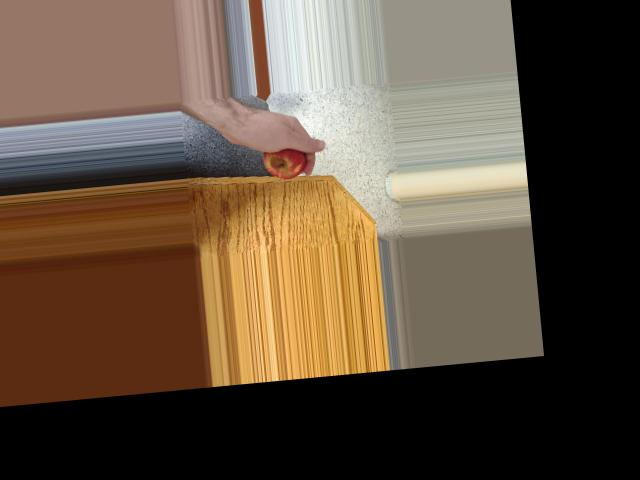apple: (255, 130, 309, 183)
